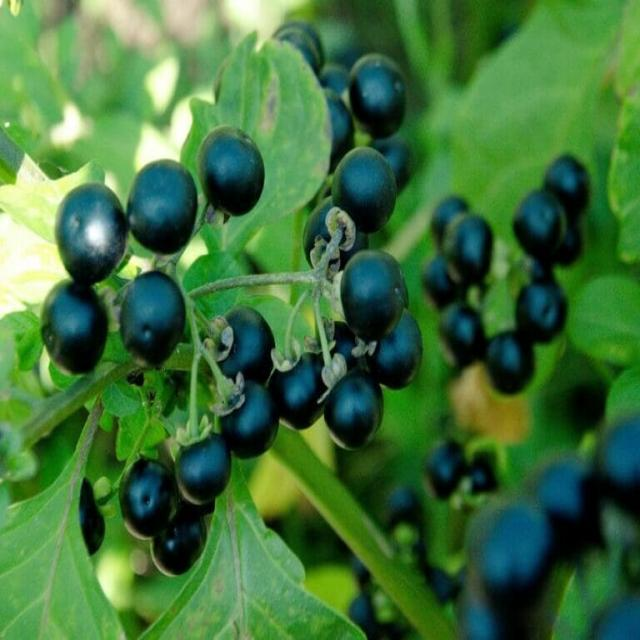Poisonous-Deadly_Nightshade: (25, 143, 300, 589), (325, 148, 592, 456)
